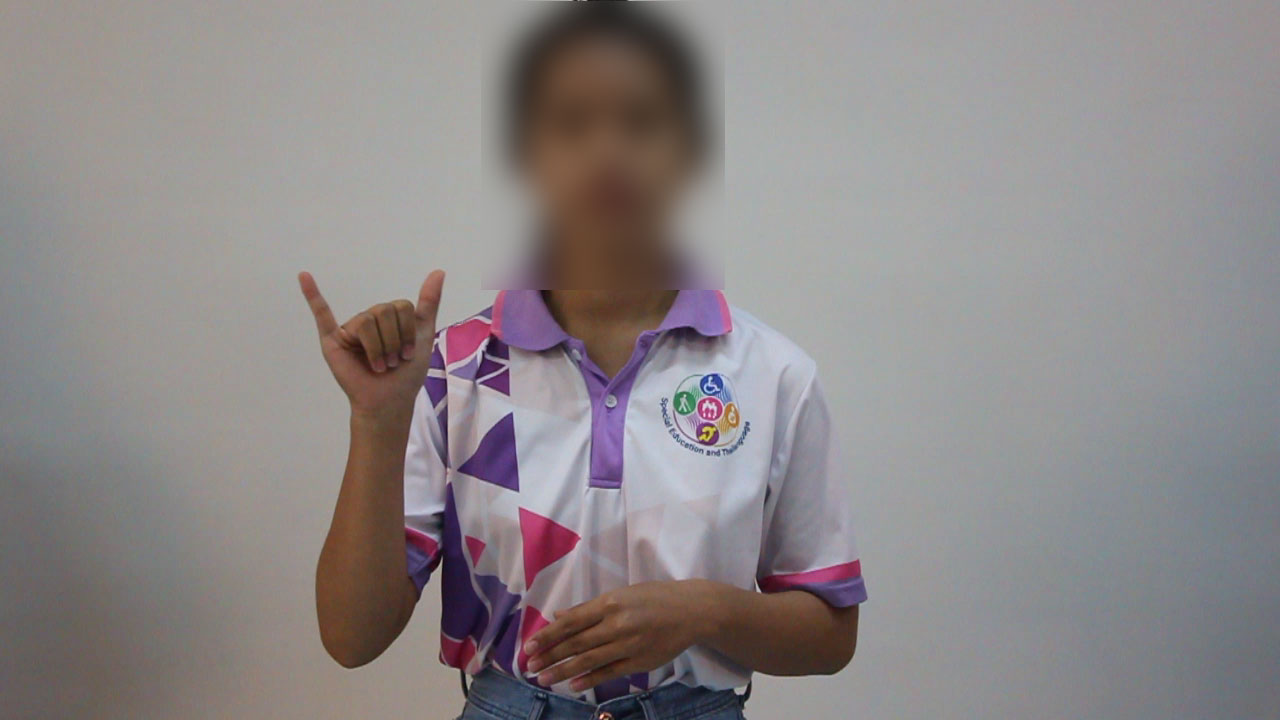yor: (284, 258, 472, 418)
